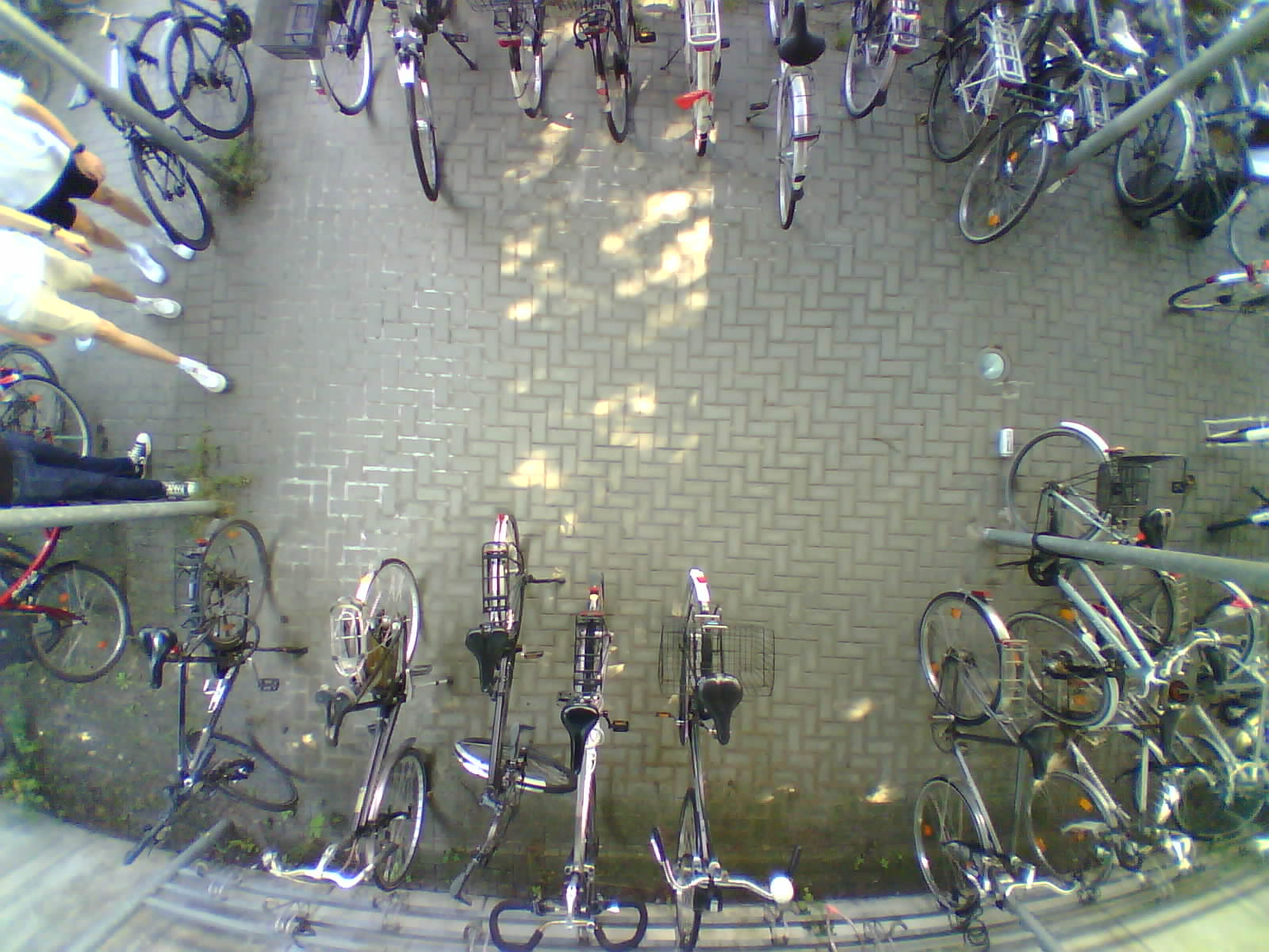bicylce: (999, 409, 1158, 724), (1083, 547, 1256, 832), (1033, 588, 1152, 908), (0, 370, 111, 688), (658, 571, 749, 952), (328, 549, 426, 882), (929, 587, 1015, 914), (470, 513, 543, 886), (186, 518, 273, 822), (555, 572, 622, 947), (102, 5, 200, 252), (977, 0, 1072, 250)
saddle: (775, 0, 828, 71), (698, 670, 746, 748), (1019, 718, 1066, 780), (466, 630, 512, 693), (315, 680, 358, 742), (133, 626, 175, 688), (560, 704, 598, 772), (1106, 11, 1150, 61), (1140, 501, 1179, 556), (1153, 697, 1184, 760), (1204, 638, 1228, 685), (1246, 79, 1269, 119), (68, 78, 92, 116)
